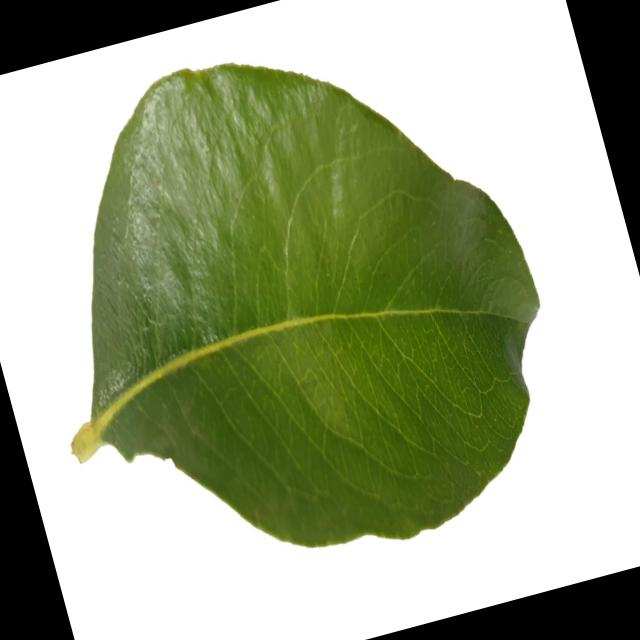Medicinal-Sandalwood: (0, 0, 590, 616)
